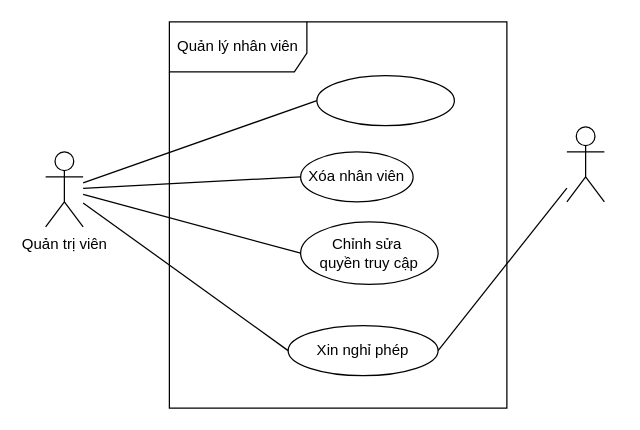
This 640x430 diagram has some shape labels left out. The box of each missing label's shape, as (x1, y1, x2, y2) in pixels:
Nhân viên: (566, 126, 604, 202)
Thêm nhân viên: (316, 74, 454, 126)
